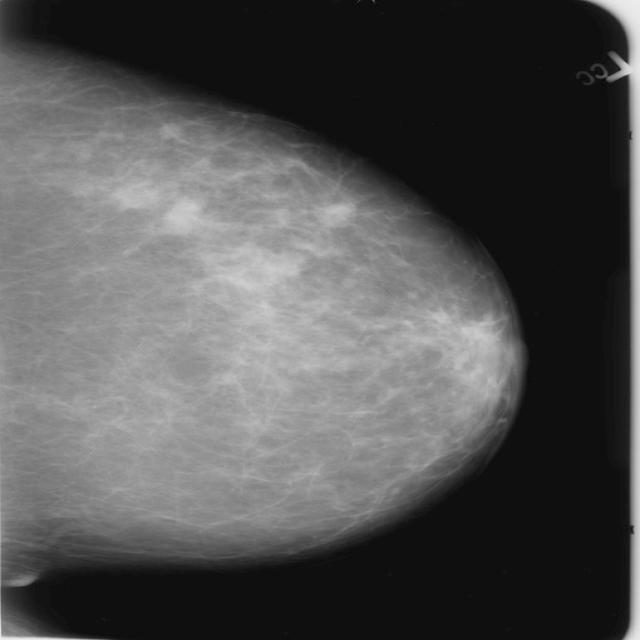tumour: (316, 202, 356, 225)
